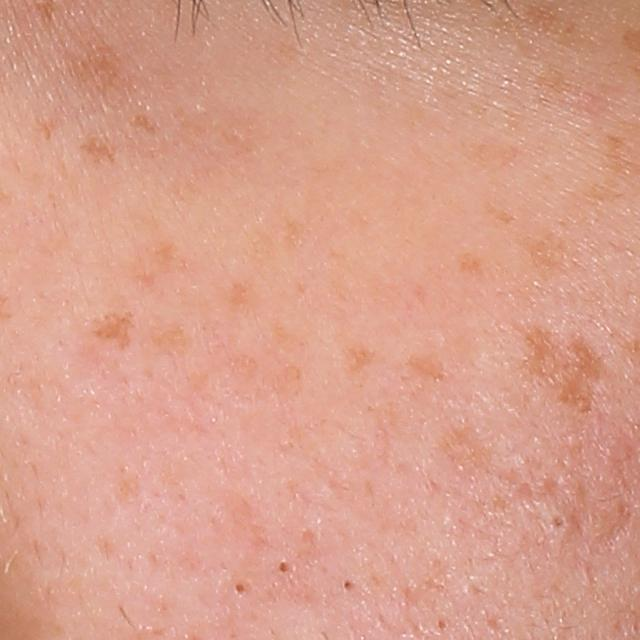comedo: (226, 577, 251, 601), (273, 556, 296, 582), (548, 504, 569, 532), (338, 577, 357, 596), (432, 615, 452, 633)
melasma: (523, 324, 607, 418), (61, 26, 129, 100), (432, 418, 503, 474), (514, 232, 583, 284), (84, 305, 138, 354), (143, 317, 196, 359), (77, 124, 125, 169), (400, 349, 448, 387), (218, 277, 260, 320), (340, 341, 378, 379), (453, 247, 491, 281), (481, 198, 519, 230), (132, 112, 159, 136)
